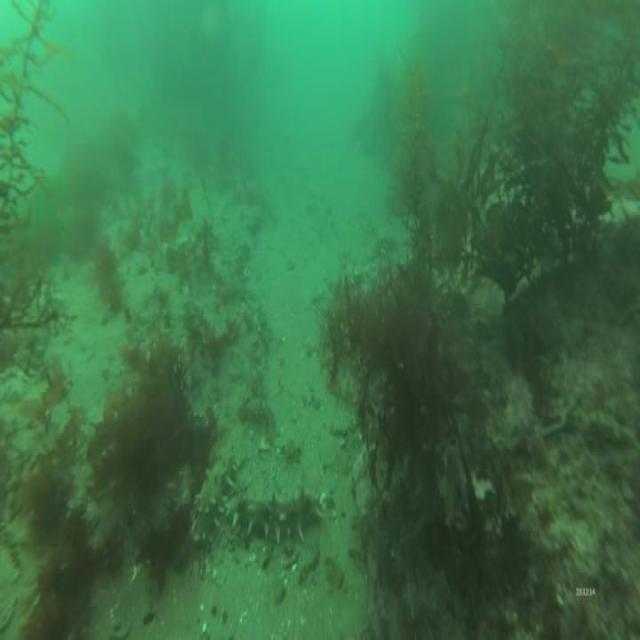holothurian: (227, 482, 331, 553), (190, 455, 228, 550)
waterweeds: (391, 2, 640, 280), (321, 240, 515, 555), (92, 337, 220, 515), (0, 0, 60, 354), (20, 436, 76, 550)
